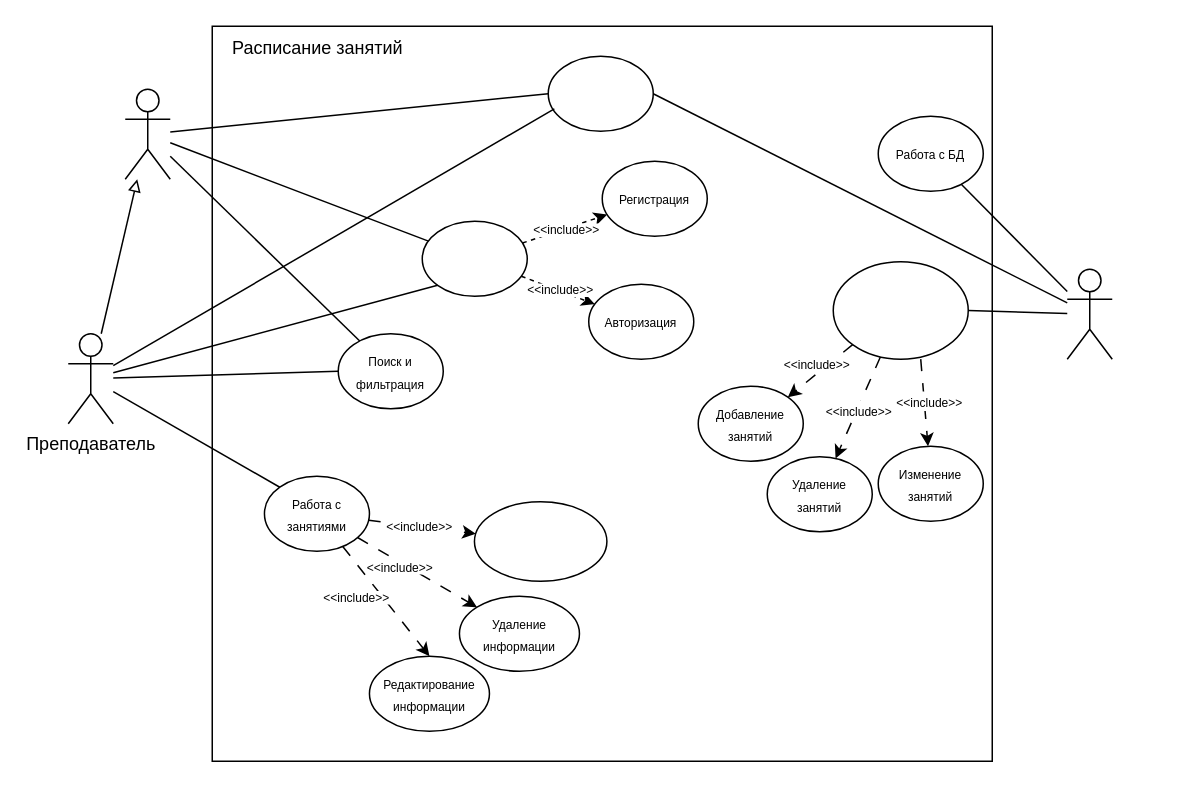
Some shapes in this 1181 by 788 pixel diagram are drawn without their labels. Here are the shapes that lost their labels. From the top down, the centre of each, then its label:
point (600, 93): Просмотр расписания
point (147, 133): Студент
point (474, 258): Вход в систему
point (900, 309): Работа с расписанием
point (1089, 313): Администратор
point (540, 540): Добавление информации
